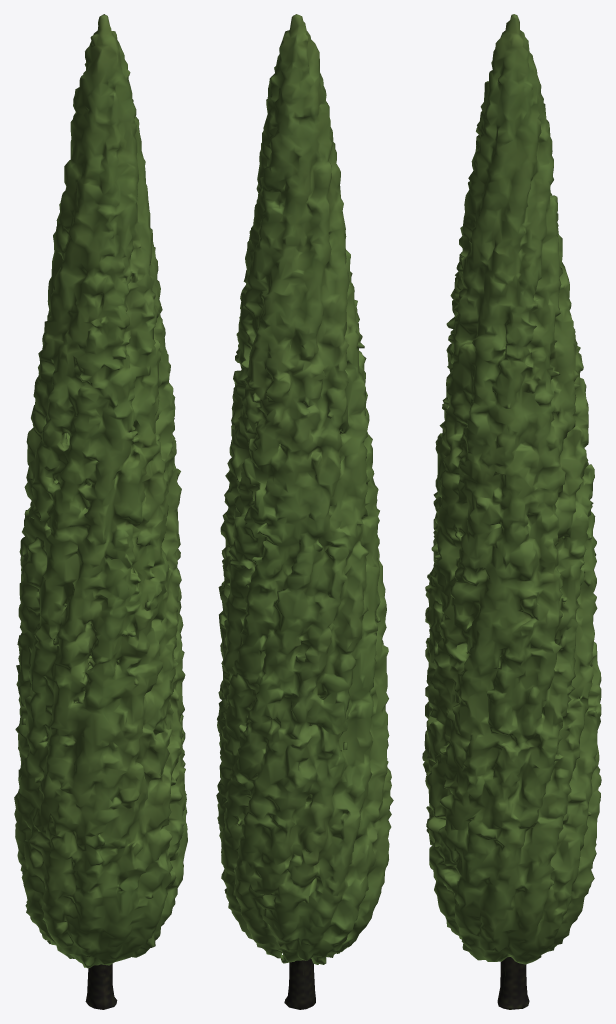
Rendered from tree_13_italian_cypress.glb.
The picture shows the model from 3 angles, left to right: view 1: azimuth 30°, elevation 25°; view 2: azimuth 150°, elevation 25°; view 3: azimuth 270°, elevation 25°; orthographic projection.
Parts seen in each view (by area): view 1: world; view 2: world; view 3: world.
Boxes of the visible parts, <box> form: world: <box>14,14,187,1009</box>; world: <box>216,14,393,1009</box>; world: <box>422,14,601,1009</box>.
Bounding box in the file's own units: 0.1579 × 1 × 0.1645.
1 material, 1 textured.
